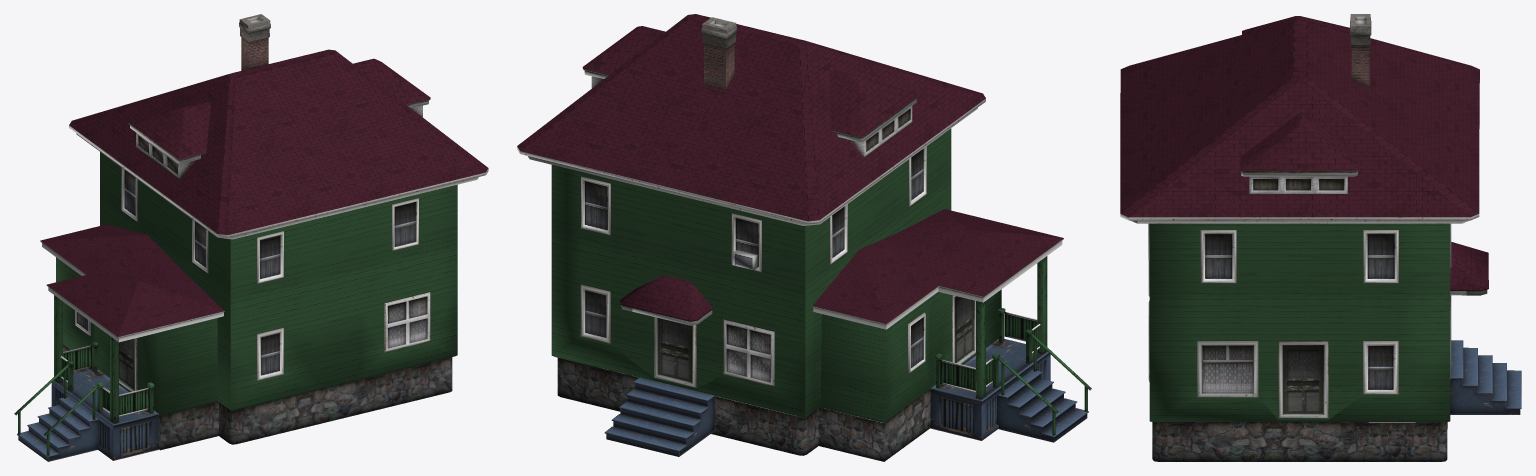
File: casaVerde.obj
3 views of the same model, side by side, from view 1: azimuth 30°, elevation 25°; view 2: azimuth 150°, elevation 25°; view 3: azimuth 270°, elevation 25° (orthographic). The views are drawn at different scales.
Visible parts, largest first — view 1: house; view 2: house; view 3: house.
Part boxes in pixels (x1=…): house: x1=14, y1=14, x2=488, y2=461; house: x1=517, y1=14, x2=1091, y2=461; house: x1=1120, y1=14, x2=1521, y2=461.
Size of the model in its own units: 124 by 97.6 by 93.13.
Materials: 3 (3 with a texture image).
